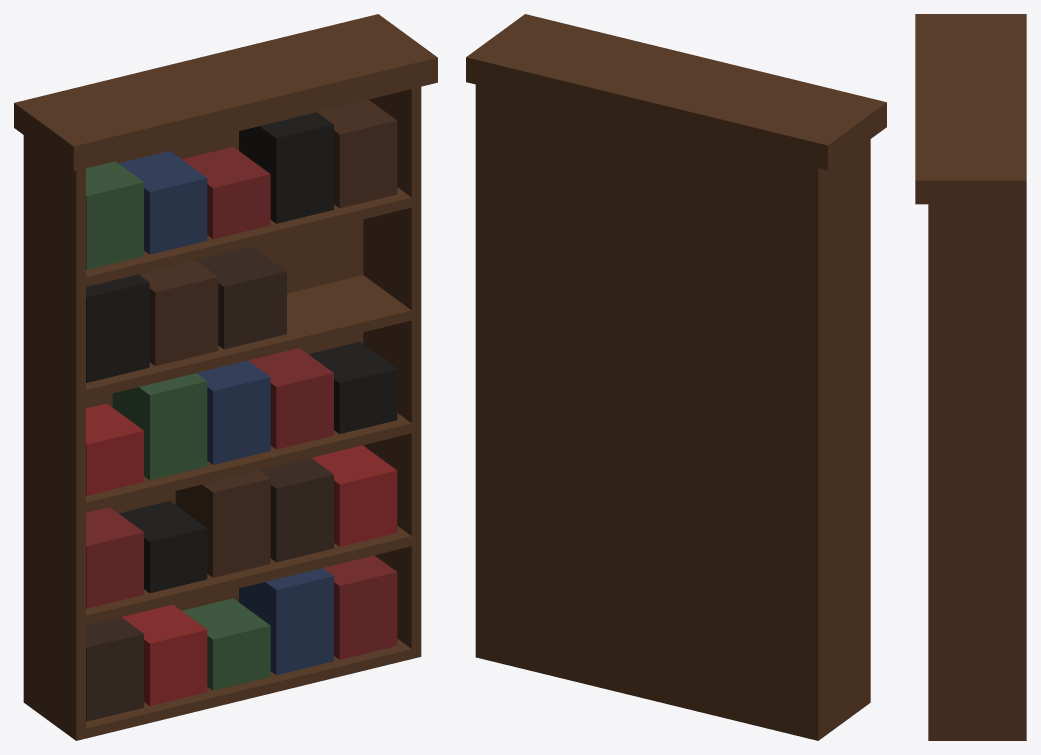
Rendered from bookcase.glb.
The picture shows the model from 3 angles, left to right: view 1: azimuth 30°, elevation 25°; view 2: azimuth 150°, elevation 25°; view 3: azimuth 270°, elevation 25°; orthographic projection. The views are drawn at different scales.
Visible parts, largest first — view 1: bookcase; view 2: bookcase; view 3: bookcase.
Part boxes in pixels (x1,y1,x2,y2): bookcase: [14, 14, 437, 740]; bookcase: [466, 14, 886, 740]; bookcase: [915, 14, 1026, 740].
Size of the model in its own units: 1.52 by 2.4 by 0.43.
1 material, 1 textured.
